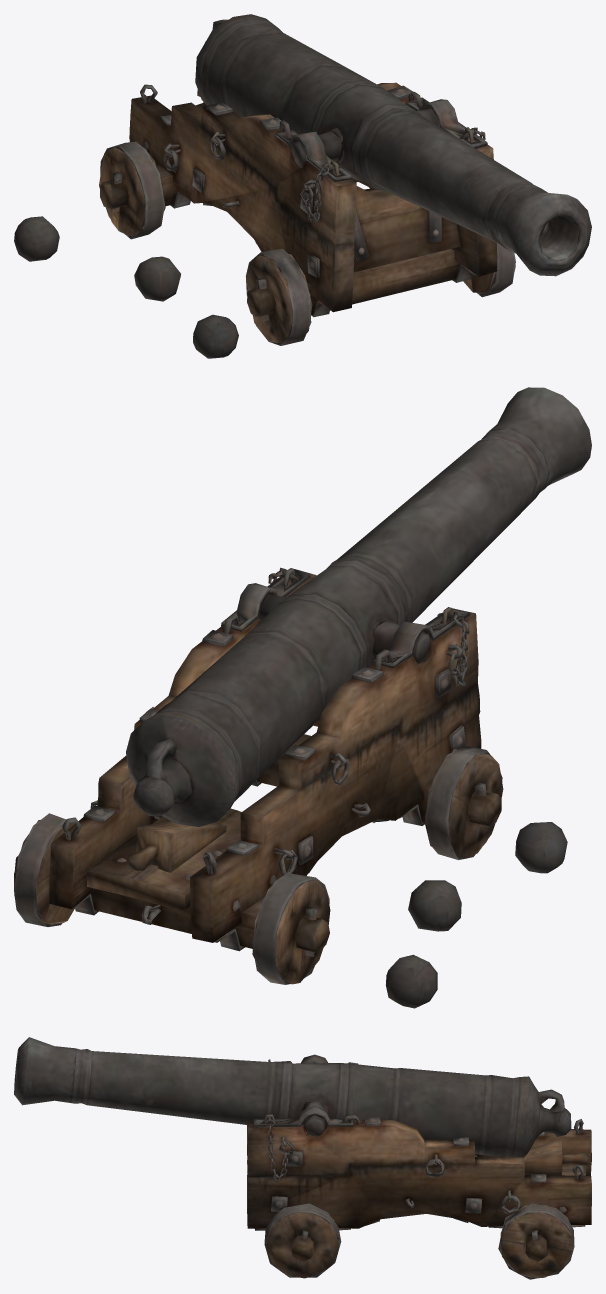
File: prop_cannon_01.glb
3 renders of one model, top to bottom at view 1: azimuth 30°, elevation 25°; view 2: azimuth 150°, elevation 25°; view 3: azimuth 270°, elevation 25°, orthographic. The views are drawn at different scales.
Parts seen in each view (by area): view 1: prop_cannon_01; view 2: prop_cannon_01; view 3: prop_cannon_01.
Boxes of the visible parts, x1,y1,x2,y2 form: prop_cannon_01: [14, 14, 591, 358]; prop_cannon_01: [14, 387, 591, 1008]; prop_cannon_01: [14, 1037, 591, 1279].
Bounding box in the file's own units: 1.28 × 0.8637 × 2.3.
1 material, 1 textured.
